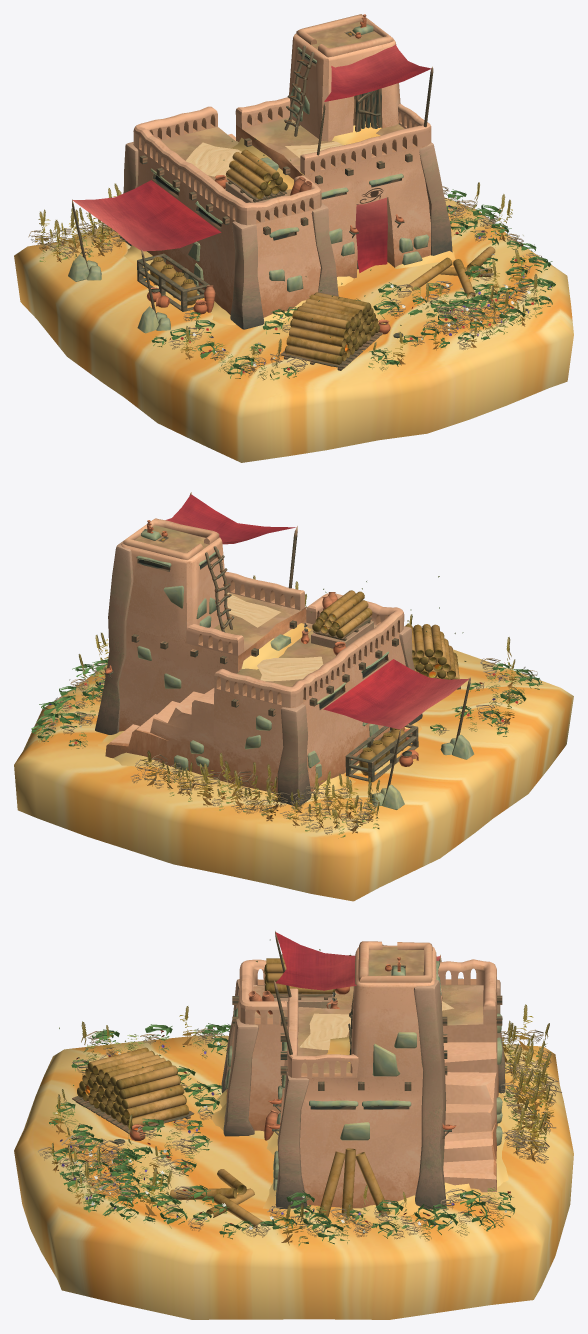
File: stracture-2.fbx
3 views of the same model, one above another, from view 1: azimuth 30°, elevation 25°; view 2: azimuth 150°, elevation 25°; view 3: azimuth 270°, elevation 25° (orthographic). The views are drawn at different scales.
Visible parts, largest first — view 1: building, plants and grass, flowers; view 2: building, plants and grass; view 3: building, plants and grass, flowers.
Boxes of the visible parts, x1=… form: building: x1=14, y1=14, x2=573, y2=462; plants and grass: x1=28, y1=182, x2=555, y2=380; flowers: x1=162, y1=192, x2=550, y2=373; building: x1=14, y1=492, x2=573, y2=901; plants and grass: x1=31, y1=575, x2=542, y2=838; building: x1=14, y1=931, x2=573, y2=1319; plants and grass: x1=38, y1=1004, x2=561, y2=1246; flowers: x1=55, y1=1026, x2=510, y2=1232.
Size of the model in its own units: 193 by 121 by 202.
2 materials, 2 textured.
